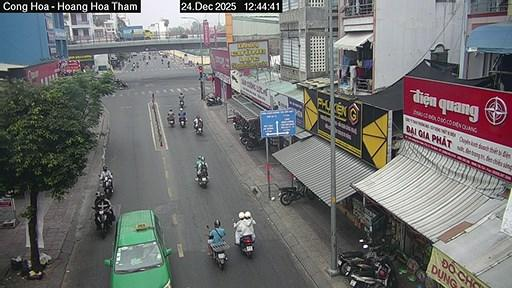motorbike: (336, 241, 380, 275), (348, 256, 394, 287), (278, 184, 314, 205), (208, 241, 229, 269), (92, 207, 109, 238), (239, 234, 252, 256), (239, 130, 258, 144), (102, 175, 112, 198), (246, 138, 265, 149), (198, 171, 208, 187), (205, 95, 221, 103), (233, 113, 240, 129), (115, 79, 127, 88), (194, 121, 201, 134), (167, 117, 173, 126), (179, 117, 185, 126), (195, 126, 201, 134), (179, 99, 182, 107), (358, 238, 364, 242), (166, 62, 169, 67), (207, 225, 208, 228)
